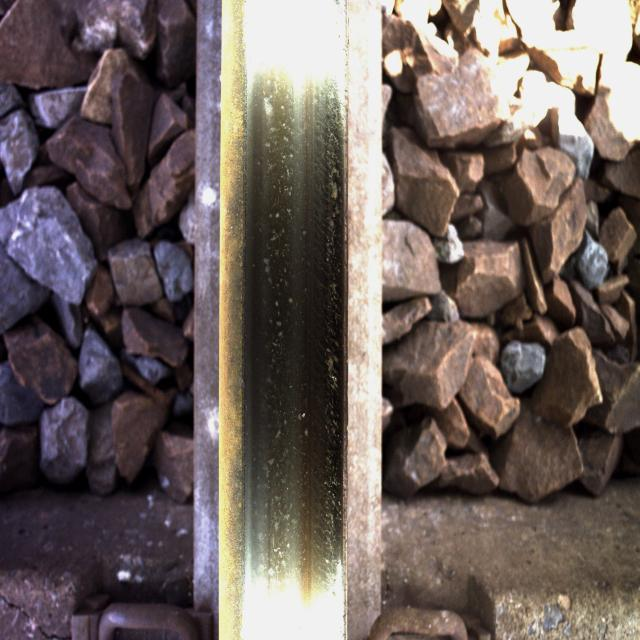normal: (242, 25, 336, 597)
